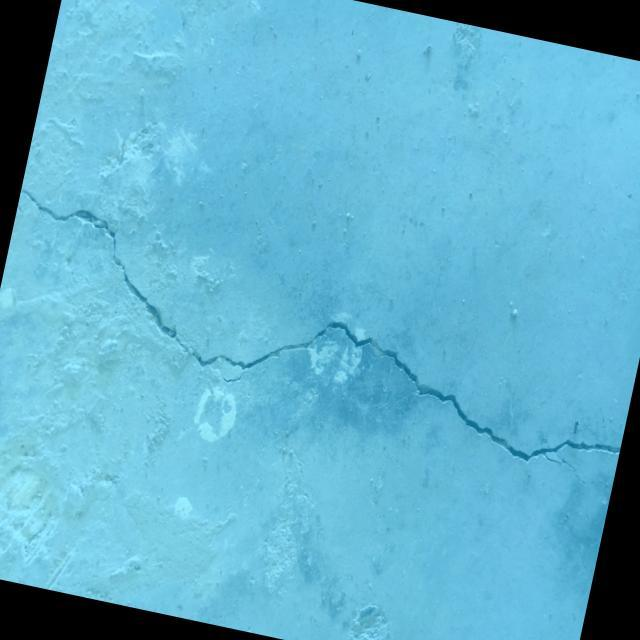crack: (0, 187, 640, 490)
